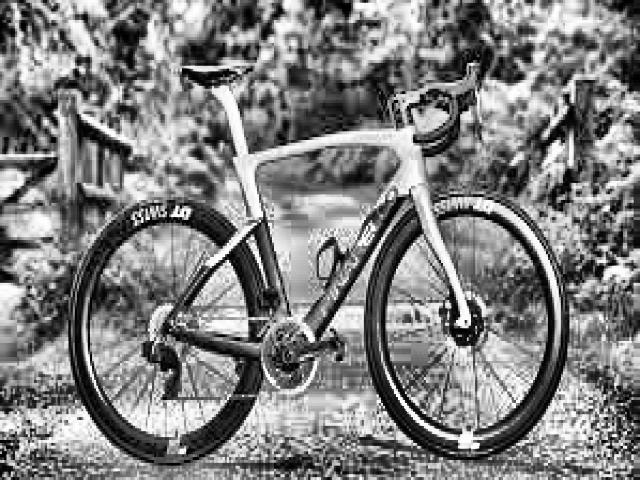cranks_set: (258, 313, 346, 398)
pedal: (328, 323, 345, 363)
rear_derailleur: (142, 333, 183, 402)
saddle: (179, 59, 257, 87)
sti_shifter: (465, 59, 488, 136)
wheel: (66, 186, 275, 468), (365, 190, 572, 457)
